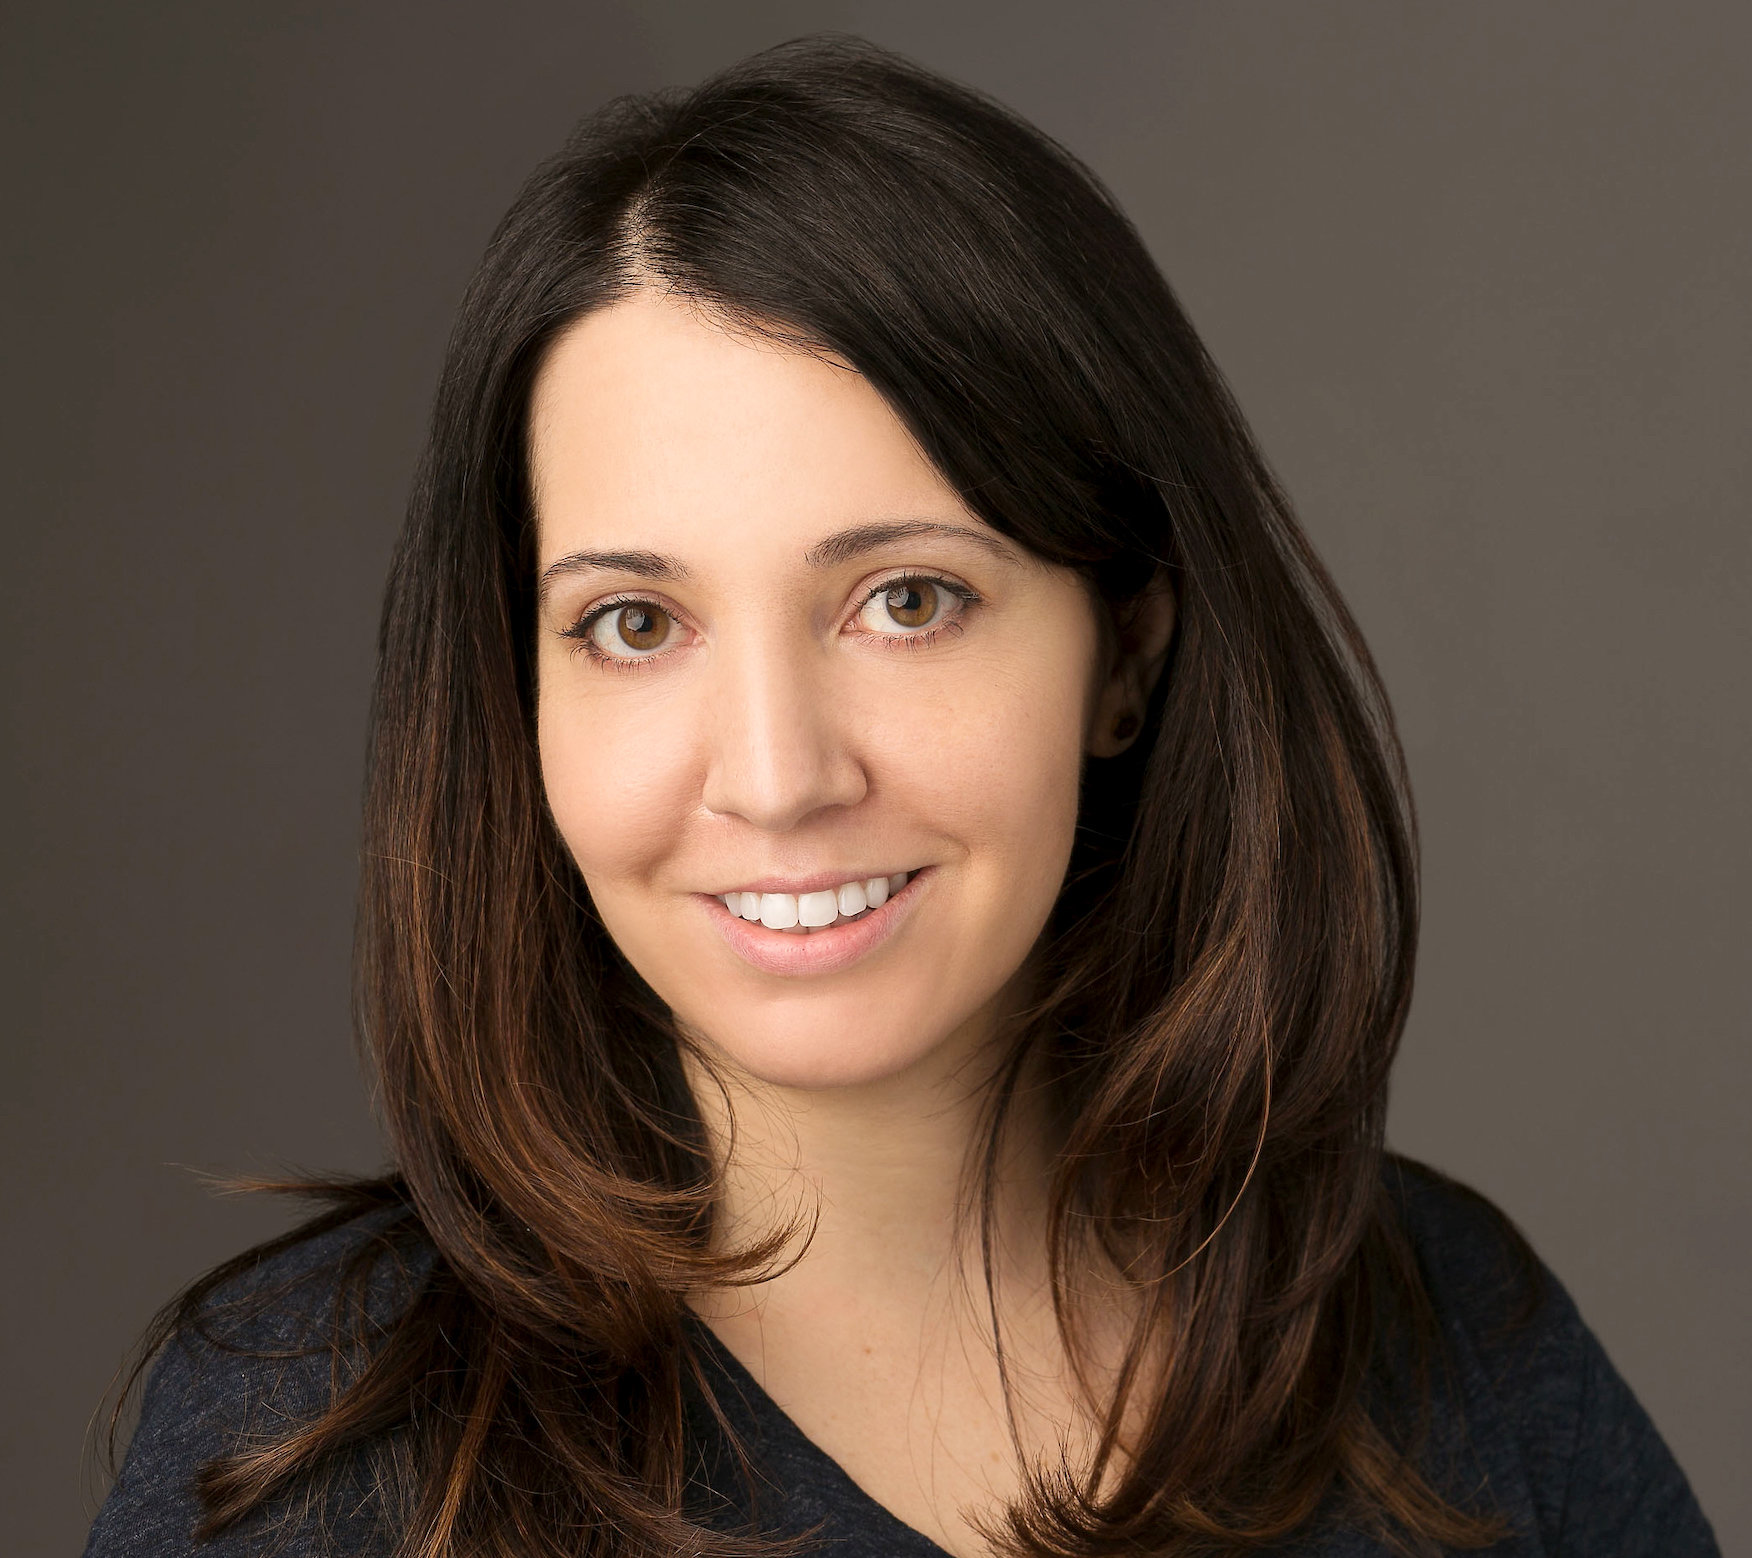Without Helmet: (397, 39, 1457, 1271)
